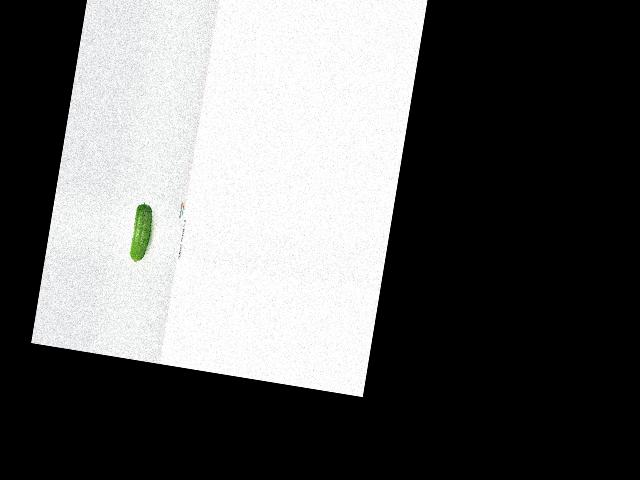cucumber: (127, 201, 155, 264)
